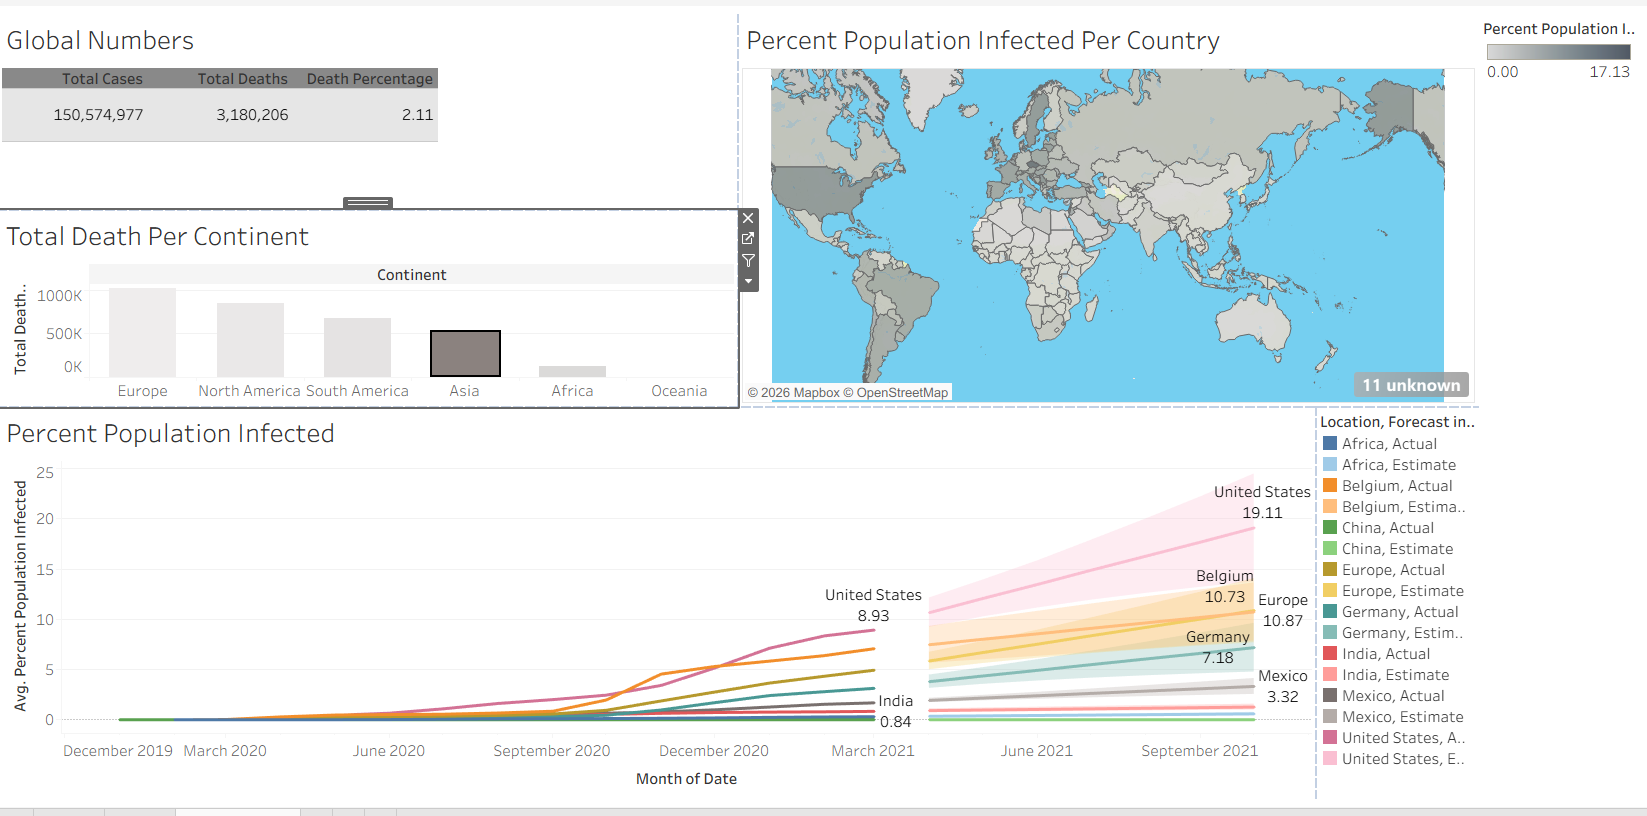

Layout of this report page (visuals, bound fields, positions):
{"tool":"tableau","page":{"name":"Dashboard 1","canvas":[1000,1000],"units":"permille","ordinal":0},"visuals":[{"type":"worksheet","title":"Sheet 1","mark":"Automatic","box":[4.8,10,446.7,245]},{"type":"worksheet","title":"Sheet 3","mark":"Automatic","box":[451.5,10,447.1,490]},{"type":"legend","title":"Sheet 3","param":"[federated.1hf9tww0g88fzb1bz5dmo0aet05h].[sum:PercentPopulationInfected:qk]","box":[898.6,10,96.6,91.1]},{"type":"worksheet","title":"Sheet 2","mark":"Automatic","rows":["TotalDeathCount"],"cols":["location"],"box":[4.8,255,446.7,245]},{"type":"worksheet","title":"Sheet 4","mark":"Automatic","rows":["PercentPopulationInfected"],"cols":["date"],"box":[4.8,500,795.2,490]},{"type":"legend","title":"Sheet 4","param":"[federated.09k78h91hwh4ii15vvama0gpm9ll].[none:Location:nk]\n[federated.09k78h91h","box":[800.1,500,98.6,490]}]}

Visuals, with their boxes on the dashboard's canvas, which has no fixed pixel size, in thousandths of its width and height (x1, y1, x2, y2). These are canvas units, not pixel positions in the 1647x816 screenshot, which may show the page scaled, cropped or inside an application window:
"Sheet 1" worksheet: bbox=[5, 10, 452, 255]
"Sheet 3" worksheet: bbox=[452, 10, 899, 500]
"Sheet 3" legend: bbox=[899, 10, 995, 101]
"Sheet 2" worksheet: bbox=[5, 255, 452, 500]
"Sheet 4" worksheet: bbox=[5, 500, 800, 990]
"Sheet 4" legend: bbox=[800, 500, 899, 990]
